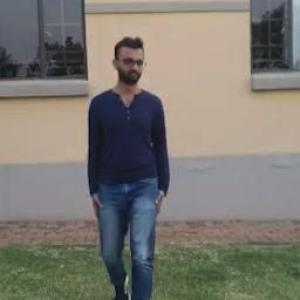follow: (78, 21, 172, 299)
